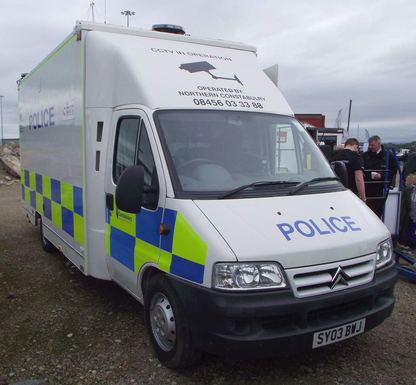ambulance: (10, 15, 397, 371)
